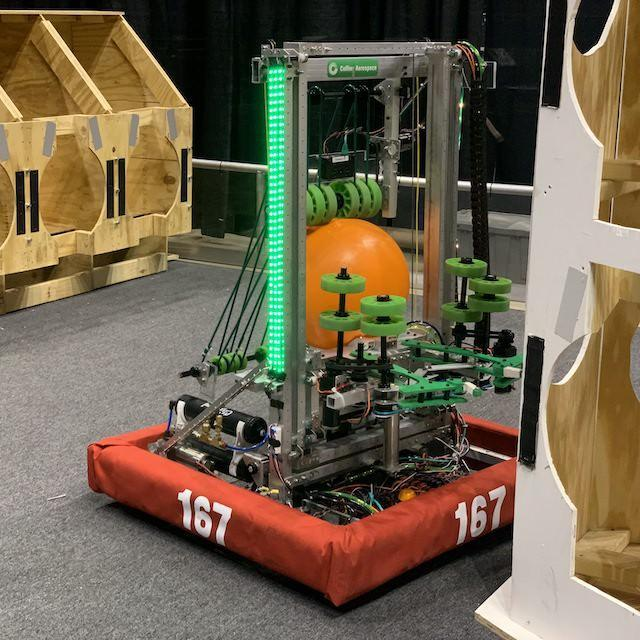robot: (83, 33, 527, 612)
